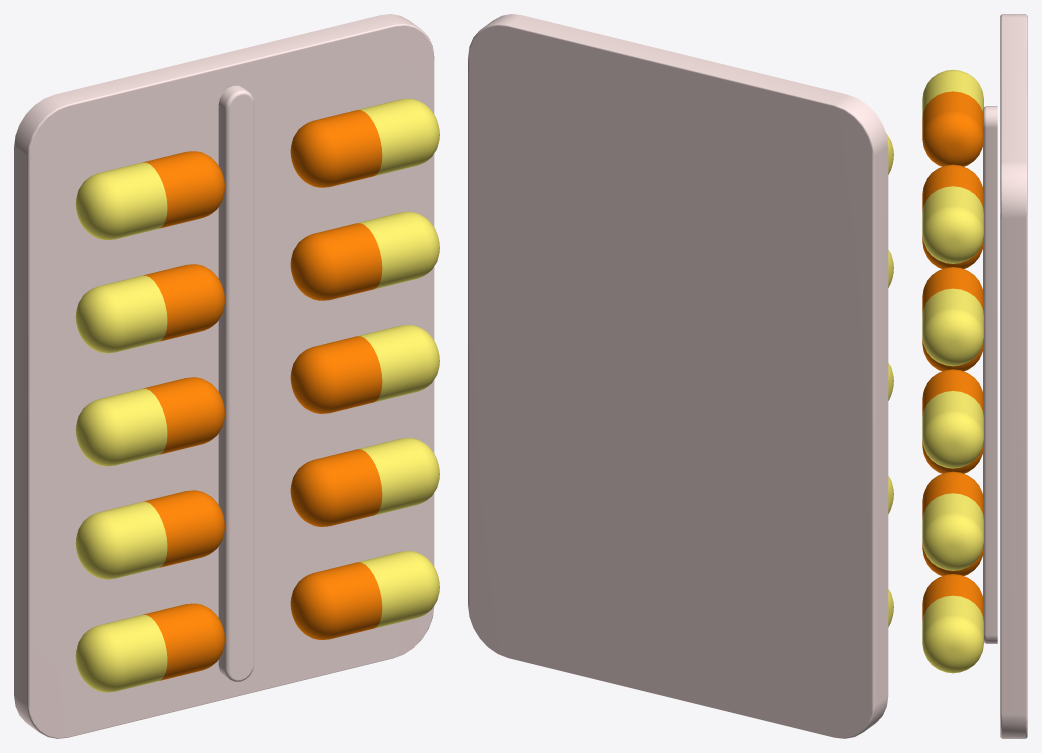
The model's file is Store_15_Pill_Pack_3.glb.
3 renders of one model, left to right at view 1: azimuth 30°, elevation 25°; view 2: azimuth 150°, elevation 25°; view 3: azimuth 270°, elevation 25°, orthographic. The views are drawn at different scales.
Visible parts, largest first — view 1: Store_15_Pill_Pack_3; view 2: Store_15_Pill_Pack_3; view 3: Store_15_Pill_Pack_3.
Boxes of the visible parts, box(x1,y1,x2,y2) form: Store_15_Pill_Pack_3: box(14, 14, 439, 738); Store_15_Pill_Pack_3: box(468, 14, 893, 738); Store_15_Pill_Pack_3: box(922, 14, 1027, 738).
Bounding box in the file's own units: 2.32 × 3.44 × 0.5744.
Materials: 1 (1 with a texture image).
